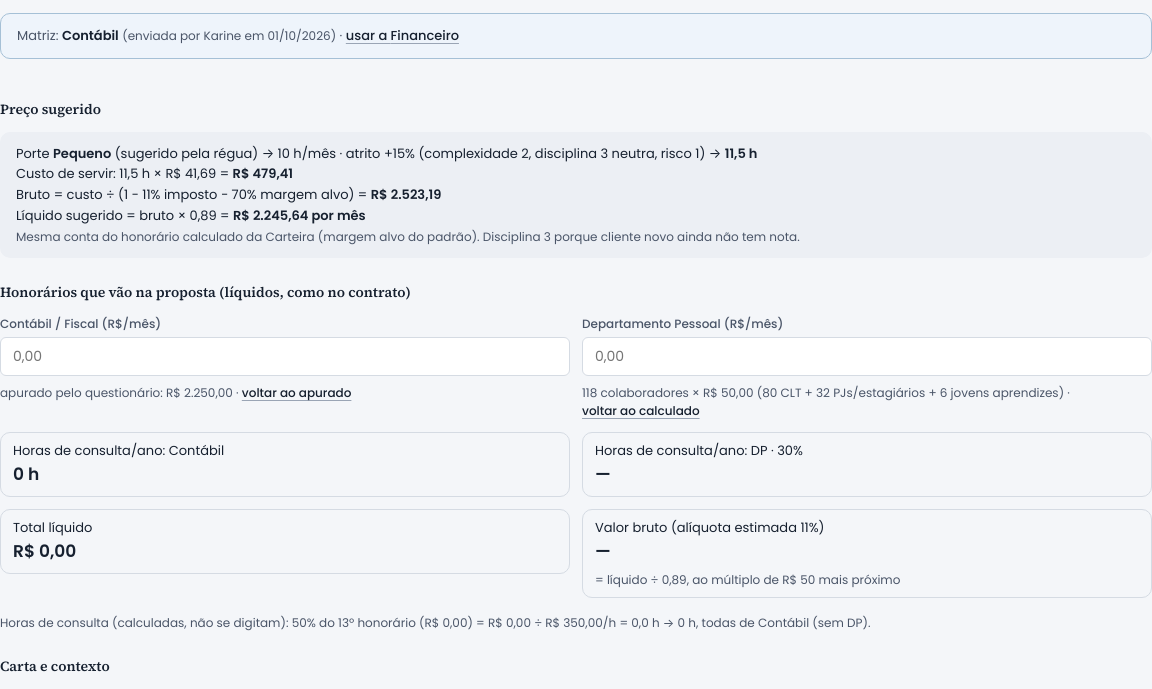
it: aba Proposta › DP a R$ 50 por colaborador e Contábil do apurado, com volta ao valor calculado
Expected: the text "118 colaboradores" reads "118 colaboradores × R$ 50,00 (80 CLT + 32 PJs/estagiários + 6 jovens aprendizes)", [582,384,1151,420]
Expected: the text "apurado pelo questionário: R$ 2.250,00 · voltar ao apurado" is shown, [0,384,351,402]
Click the button "voltar ao calculado" at coordinates (641, 411), box [582,402,700,420]
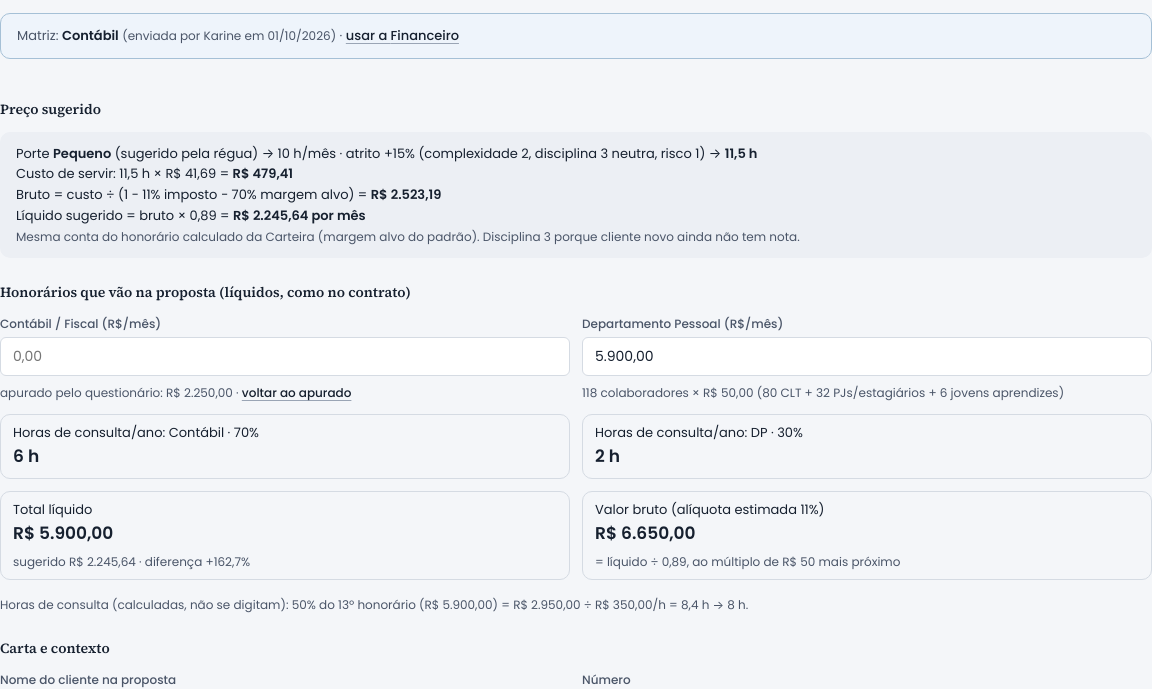
Expected: the field labelled "Departamento Pessoal (R$/mês)" holds "5.900,00", [582,337,1151,376]
Expected: the button "voltar ao calculado" is gone
Click the button "voltar ao apurado" at coordinates (297, 393), box [242,384,351,402]
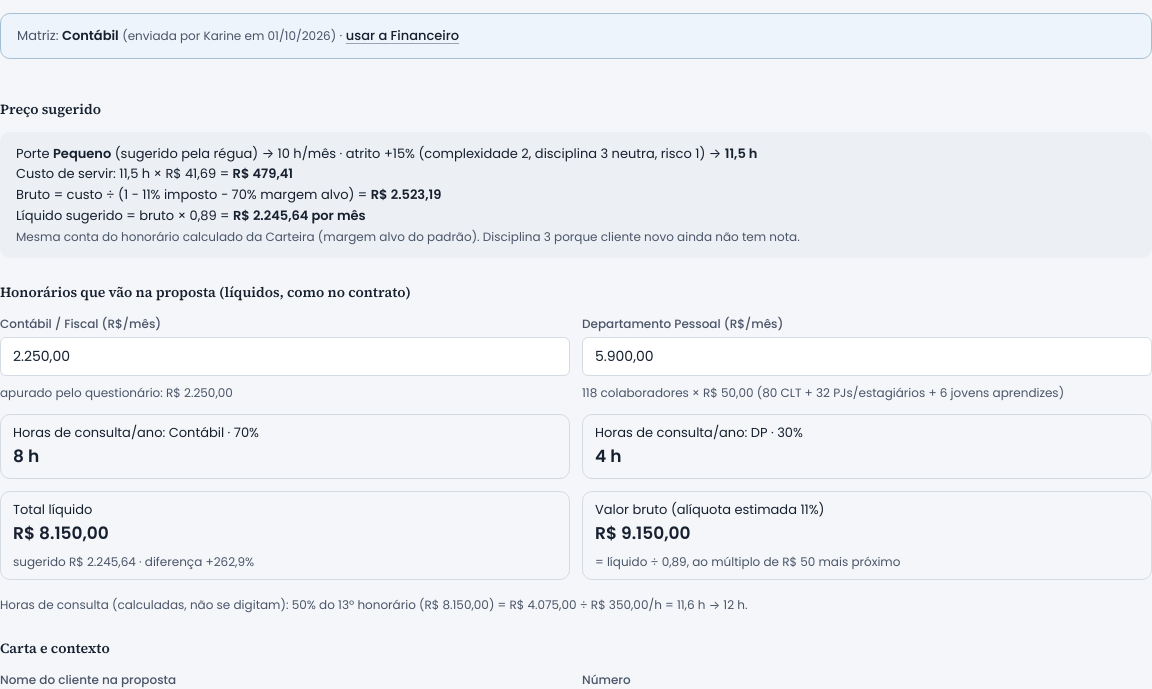
Expected: the field labelled "Contábil / Fiscal (R$/mês)" holds "2.250,00", [0,337,570,376]
